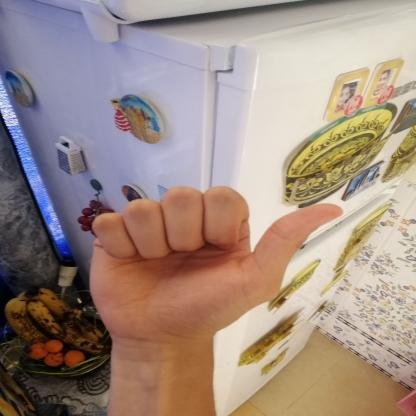DAD: (73, 176, 355, 355)
